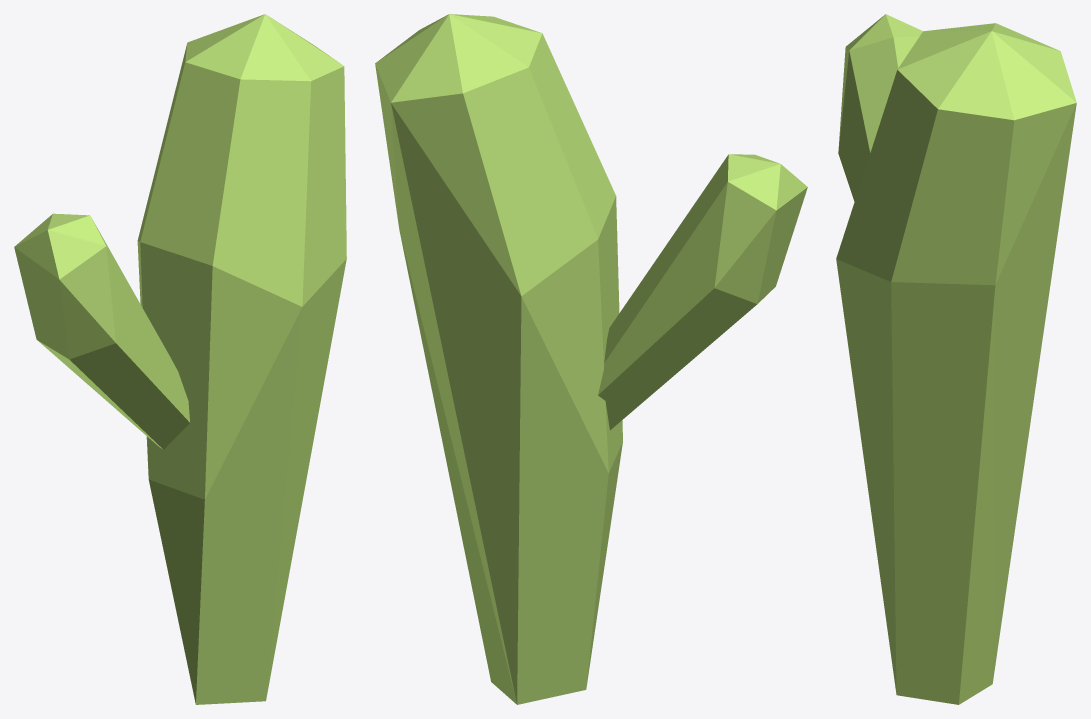
The model's file is Cactus_a_m_BT_03.fbx.
The picture shows the model from 3 angles, left to right: view 1: azimuth 30°, elevation 25°; view 2: azimuth 150°, elevation 25°; view 3: azimuth 270°, elevation 25°; orthographic projection. The views are drawn at different scales.
Parts seen in each view (by area): view 1: Cactus_a_m_BT_03; view 2: Cactus_a_m_BT_03; view 3: Cactus_a_m_BT_03.
Boxes of the visible parts, box(x1,y1,x2,y2) form: Cactus_a_m_BT_03: box(14, 14, 346, 704); Cactus_a_m_BT_03: box(375, 14, 807, 704); Cactus_a_m_BT_03: box(836, 14, 1076, 704).
Bounding box in the file's own units: 124 × 222 × 70.6.
